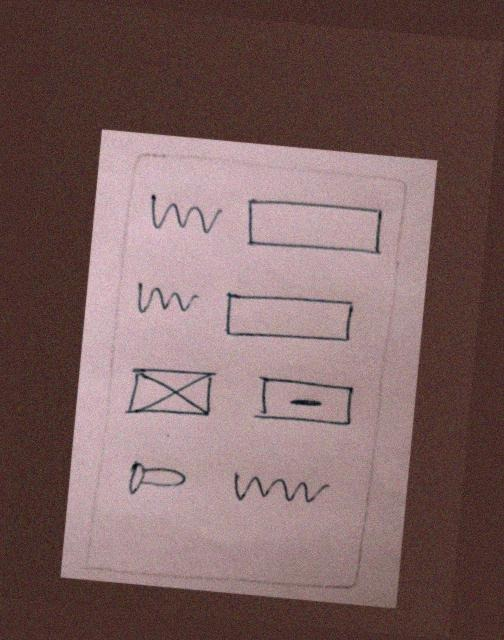button: (246, 370, 360, 439)
image: (120, 362, 224, 422)
switch: (118, 456, 192, 505)
text: (224, 465, 333, 513), (143, 192, 230, 240), (131, 277, 204, 322)
text_input: (239, 194, 387, 264), (218, 287, 358, 352)
